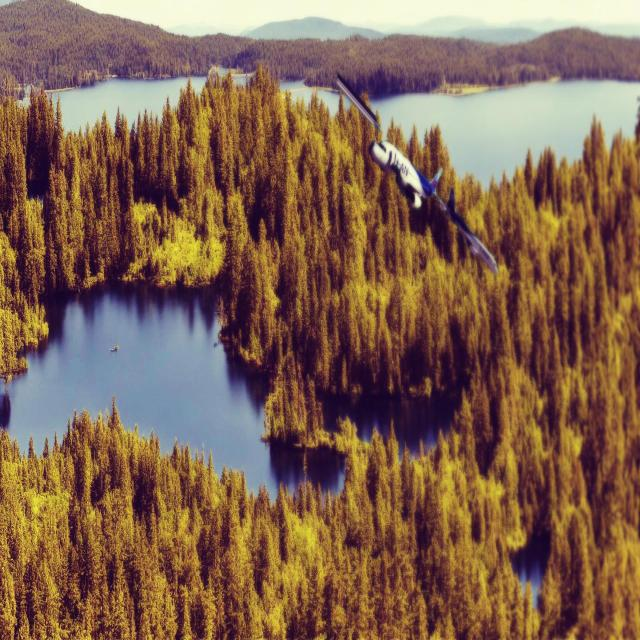airplane: (336, 71, 498, 276)
